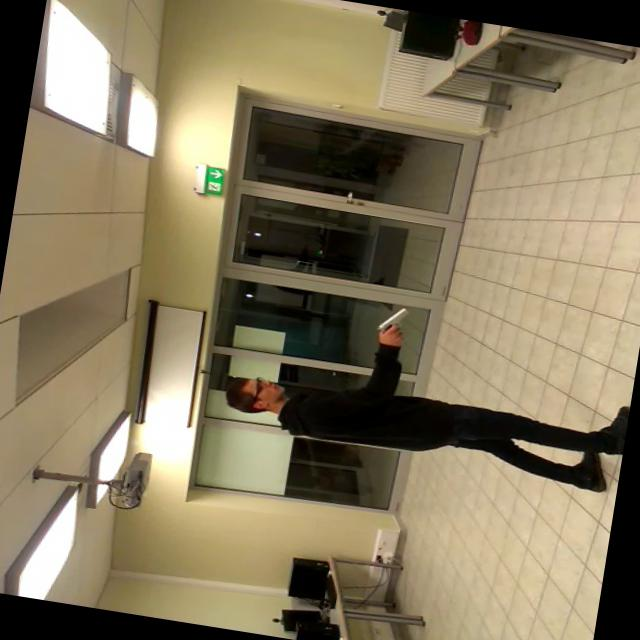handgun: (374, 296, 426, 346)
